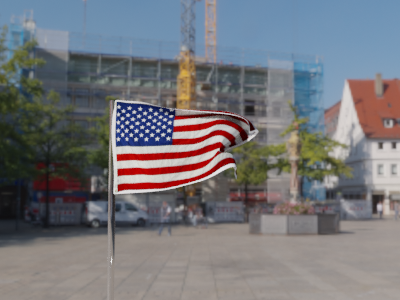America flag: (111, 102, 261, 193)
